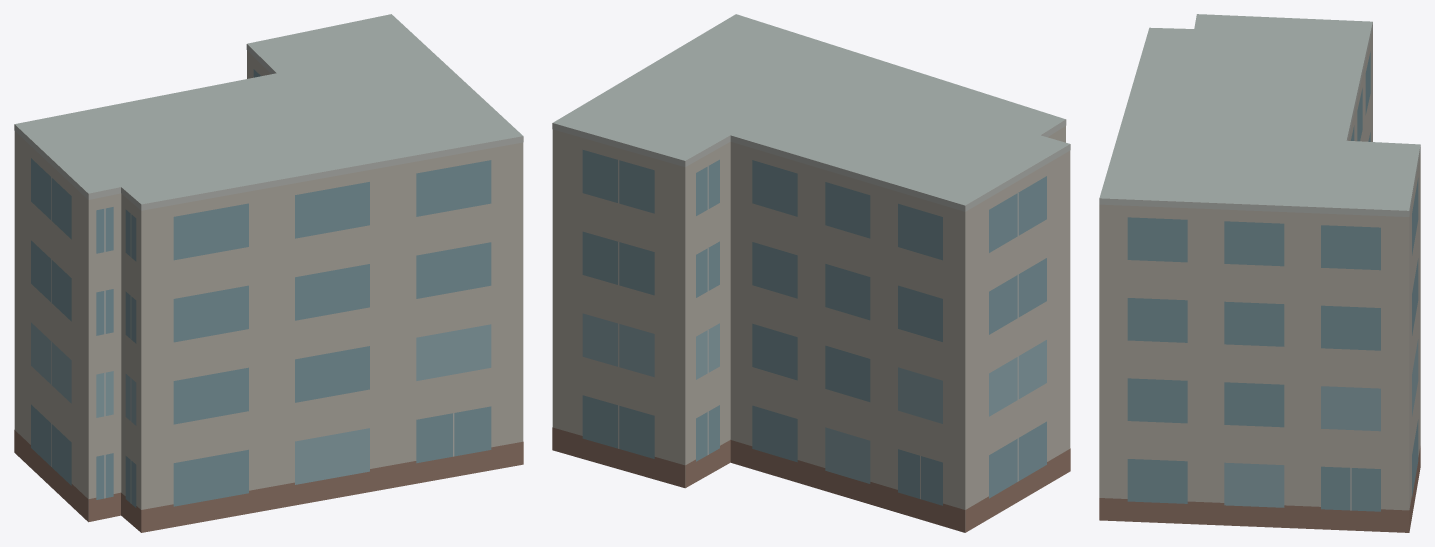
File: survey-upis-32828291.glb
3 renders of one model, left to right at view 1: azimuth 30°, elevation 25°; view 2: azimuth 150°, elevation 25°; view 3: azimuth 270°, elevation 25°, orthographic.
Parts seen in each view (by area): view 1: survey-upis-32828291.tmp; view 2: survey-upis-32828291.tmp; view 3: survey-upis-32828291.tmp.
Boxes of the visible parts, x1,y1,x2,y2 form: survey-upis-32828291.tmp: [14, 14, 523, 532]; survey-upis-32828291.tmp: [552, 14, 1070, 532]; survey-upis-32828291.tmp: [1099, 14, 1420, 532].
Bounding box in the file's own units: 16.6 × 12.65 × 11.45.
